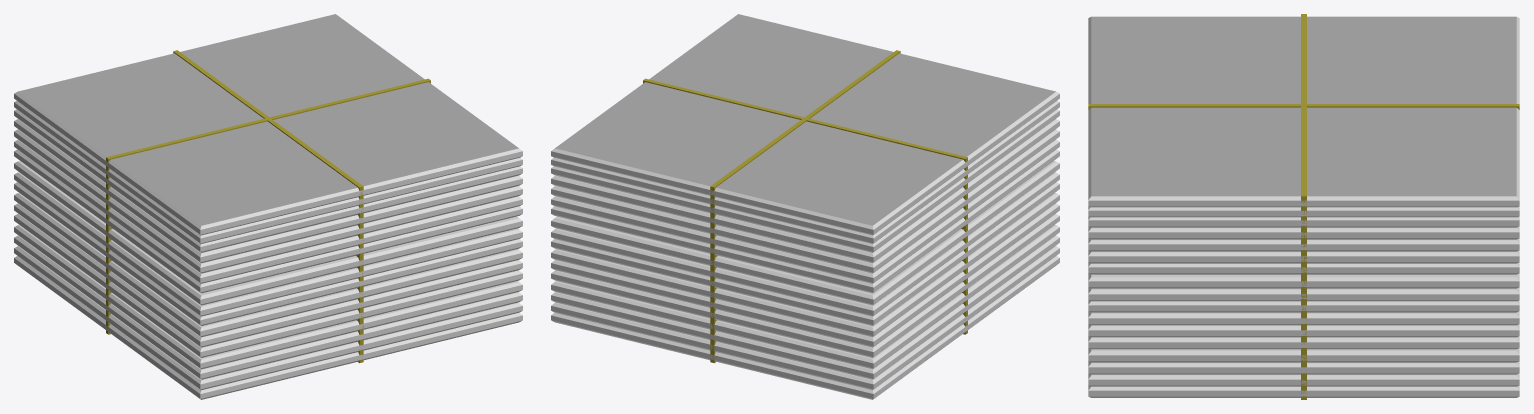
The model's file is Newspaper.fbx.
The picture shows the model from 3 angles, left to right: view 1: azimuth 30°, elevation 25°; view 2: azimuth 150°, elevation 25°; view 3: azimuth 270°, elevation 25°; orthographic projection. The views are drawn at different scales.
Parts seen in each view (by area): view 1: pCube3; view 2: pCube3; view 3: pCube3.
Boxes of the visible parts, x1,y1,x2,y2 form: pCube3: [14, 14, 522, 399]; pCube3: [551, 14, 1059, 399]; pCube3: [1088, 14, 1519, 399].
Bounding box in the file's own units: 1 × 0.5205 × 1.
